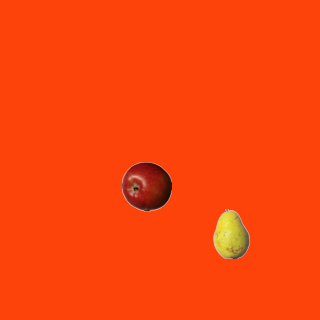Apple Braeburn: (121, 161, 171, 211)
Pear Monster: (206, 208, 256, 258)
